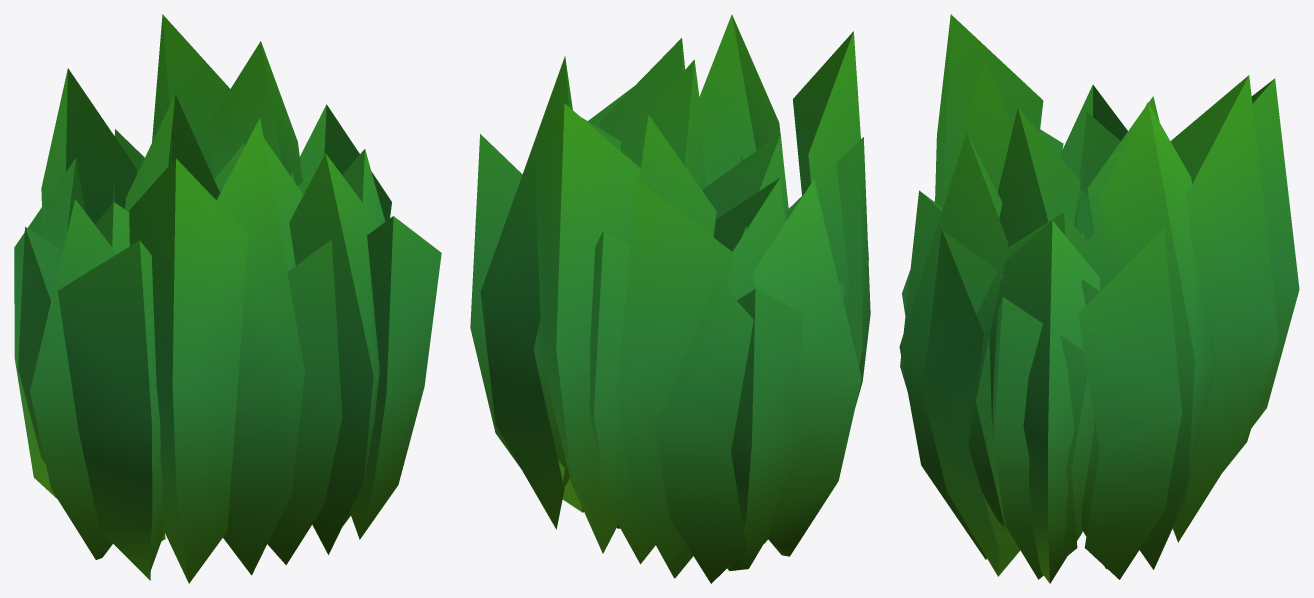
File: frost.FBX
3 renders of one model, left to right at view 1: azimuth 30°, elevation 25°; view 2: azimuth 150°, elevation 25°; view 3: azimuth 270°, elevation 25°, orthographic. The views are drawn at different scales.
Parts seen in each view (by area): view 1: Plane014; view 2: Plane014; view 3: Plane014.
Boxes of the visible parts, x1=… form: Plane014: x1=14, y1=14, x2=441, y2=583; Plane014: x1=470, y1=14, x2=870, y2=583; Plane014: x1=899, y1=14, x2=1299, y2=583.
Bounding box in the file's own units: 47.15 × 57.43 × 44.27.
Materials: 1 (1 with a texture image).
